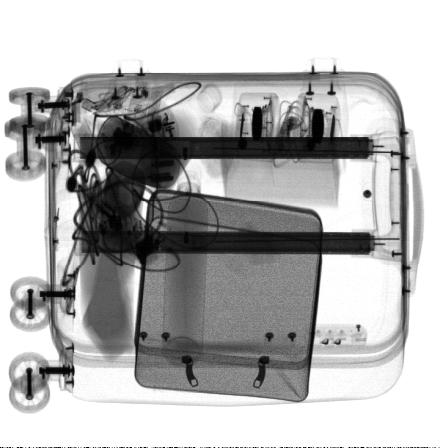Sprayer: (162, 159, 209, 368), (96, 115, 181, 190)
